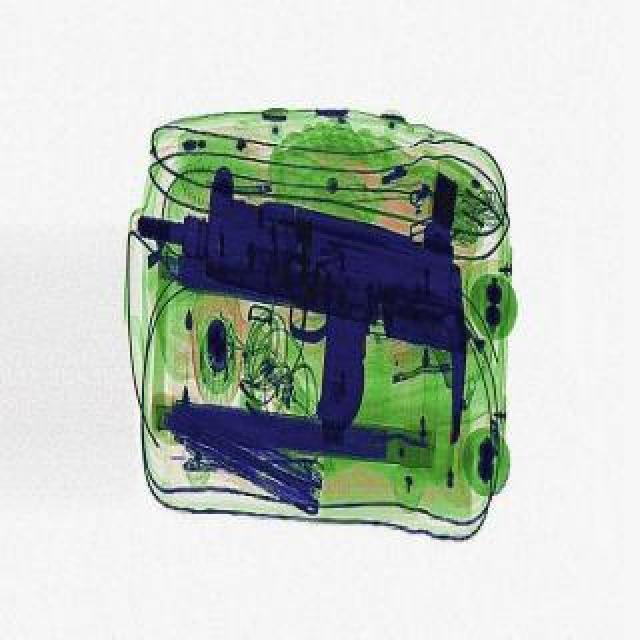gun: (136, 164, 468, 448)
